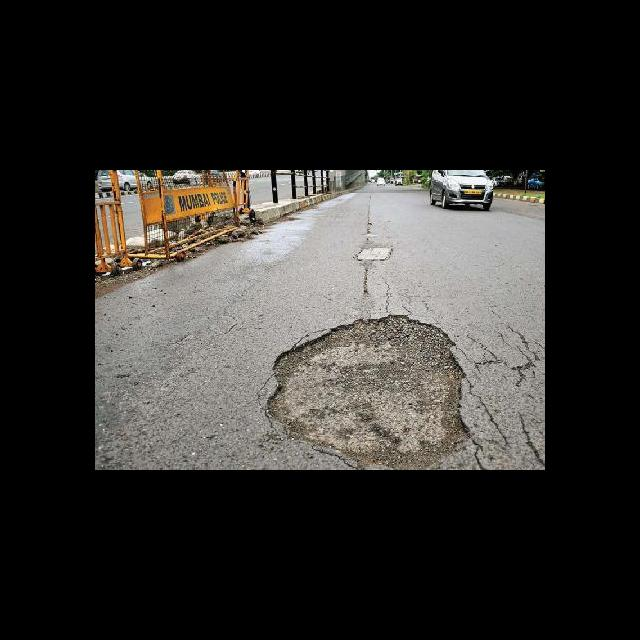lubang_kecil: (254, 304, 471, 470)
retak_kulit_buaya: (464, 310, 545, 385)
